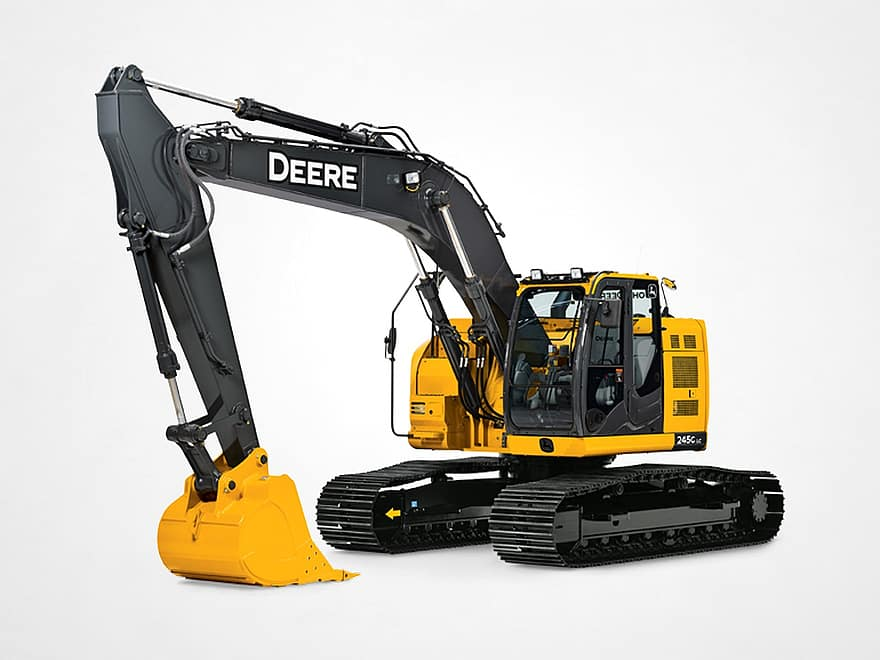excavator: (88, 49, 789, 599)
